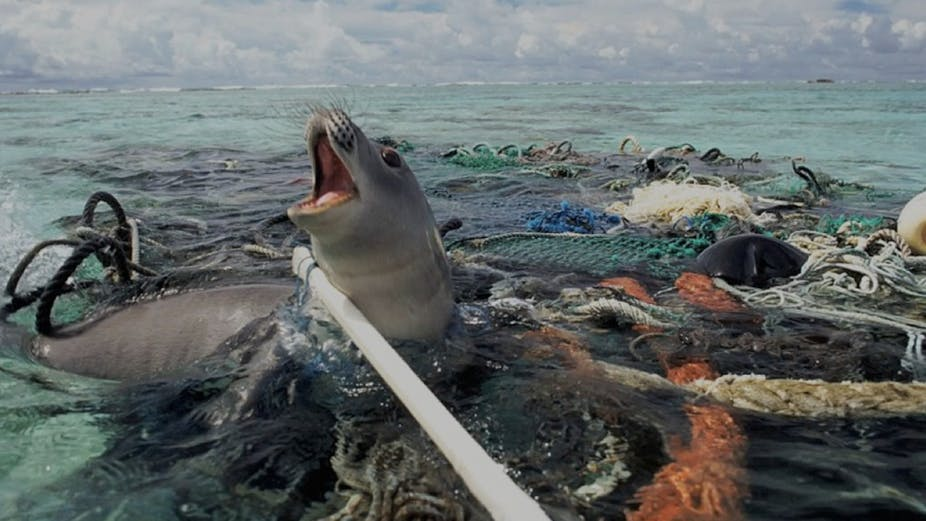litter: (618, 334, 926, 436), (39, 193, 259, 305), (280, 405, 485, 521), (471, 205, 741, 284), (760, 217, 909, 328), (452, 128, 605, 191)
